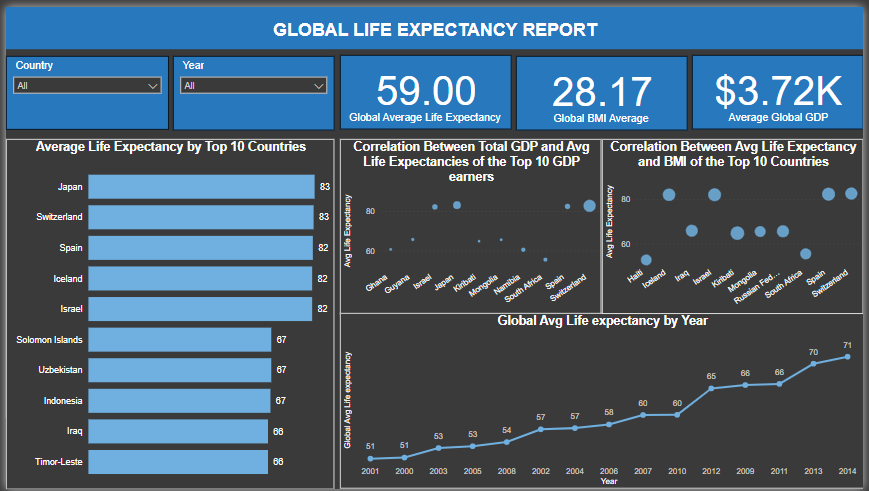

This screenshot's page, from the dashboard's own definition file:
{"tool":"powerbi","page":{"name":"Country analysis","canvas":[1280,720],"ordinal":0},"visuals":[{"type":"textbox","box":[0,0,1280,62.8],"z":0},{"type":"slicer","fields":{"Values":["Life Expectancy Data.Country"]},"box":[0,72.8,242.6,109.9],"z":1000},{"type":"slicer","fields":{"Values":["Life Expectancy Data.Year"]},"box":[249.9,73.3,241.3,110.8],"z":2000},{"type":"card","fields":{"Values":["Avg(Life Expectancy Data.Life expectancy )"]},"box":[498.5,71.5,255.6,110.8],"z":3000},{"type":"card","fields":{"Values":["Avg(Life Expectancy Data. BMI )"]},"box":[761.4,73.3,255.6,110.8],"z":4000},{"type":"card","fields":{"Values":["Avg(Life Expectancy Data.GDP)"]},"box":[1024.4,71.5,255.6,110.8],"z":5000},{"type":"clusteredBarChart","title":"Average Life Expectancy  by Top 10 Countries","fields":{"Category":["Life Expectancy Data.Country"],"Y":["Avg(Life Expectancy Data.Life expectancy )"]},"box":[0,196.7,490.2,523],"z":6000},{"type":"scatterChart","title":"Correlation Between Total GDP and Avg Life Expectancies of the Top 10 GDP earners ","fields":{"X":["Life Expectancy Data.Country"],"Y":["Avg(Life Expectancy Data.Life expectancy )"],"Size":["Sum(Life Expectancy Data.GDP)"]},"box":[498.4,196.7,390.2,262.3],"z":7000},{"type":"lineChart","fields":{"Category":["Life Expectancy Data.Year"],"Y":["Avg(Life Expectancy Data.Life expectancy )"]},"box":[498.4,457.4,782,262.3],"z":8000},{"type":"scatterChart","title":"Correlation Between Avg Life Expectancy and BMI of the Top 10 Countries","fields":{"X":["Life Expectancy Data.Country"],"Y":["Avg(Life Expectancy Data.Life expectancy )"],"Size":["Avg(Life Expectancy Data. BMI )"]},"box":[890.2,196.7,390.2,260.7],"z":9000}]}

Visuals, with their boxes in screenshot pixels (x1, y1, x2, y2), scaled from the page's 1280x720 canvas onto the 869x491 screenshot:
textbox: region(0, 0, 868, 43)
slicer - Life Expectancy Data.Country: region(0, 50, 165, 125)
slicer - Life Expectancy Data.Year: region(170, 50, 333, 126)
card - Avg(Life Expectancy Data.Life expectancy ): region(338, 49, 512, 124)
card - Avg(Life Expectancy Data. BMI ): region(517, 50, 690, 126)
card - Avg(Life Expectancy Data.GDP): region(695, 49, 868, 124)
"Average Life Expectancy  by Top 10 Countries" clusteredBarChart: region(0, 134, 333, 490)
"Correlation Between Total GDP and Avg Life Expectancies of the Top 10 GDP earners " scatterChart: region(338, 134, 603, 313)
lineChart - Life Expectancy Data.Year x Avg(Life Expectancy Data.Life expectancy ): region(338, 312, 868, 490)
"Correlation Between Avg Life Expectancy and BMI of the Top 10 Countries" scatterChart: region(604, 134, 868, 312)
